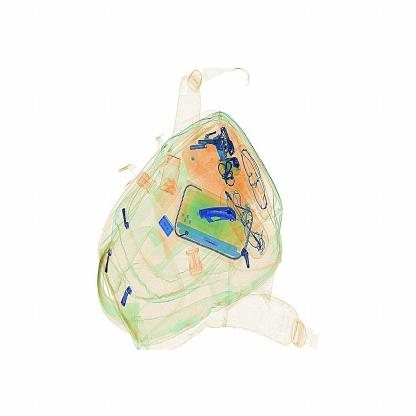knife: (188, 202, 242, 231)
